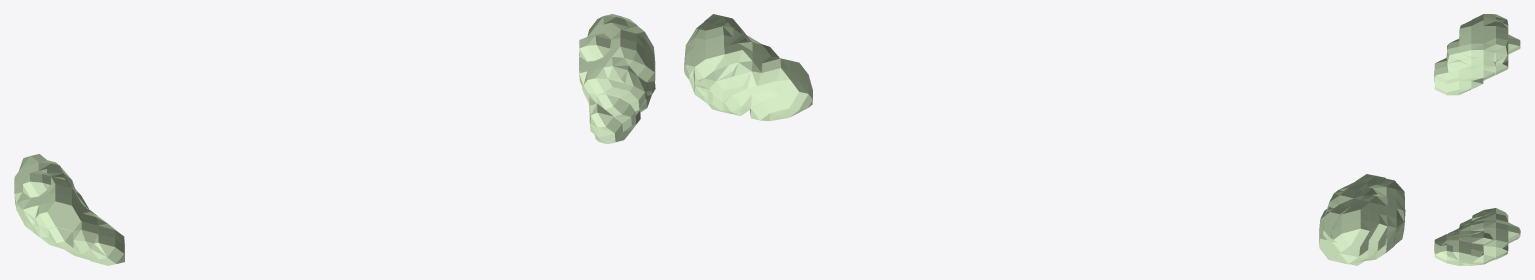
File: VFB_00102281.glb
The picture shows the model from 3 angles, left to right: view 1: azimuth 30°, elevation 25°; view 2: azimuth 150°, elevation 25°; view 3: azimuth 270°, elevation 25°; orthographic projection. The views are drawn at different scales.
Parts seen in each view (by area): view 1: VFB_00102281; view 2: VFB_00102281; view 3: VFB_00102281.
Boxes of the visible parts, box(x1,y1,x2,y2) form: VFB_00102281: box(14, 14, 655, 265); VFB_00102281: box(684, 14, 1405, 265); VFB_00102281: box(1434, 14, 1520, 265).
Size of the model in its own units: 0.1579 by 0.0228 by 0.0274.
